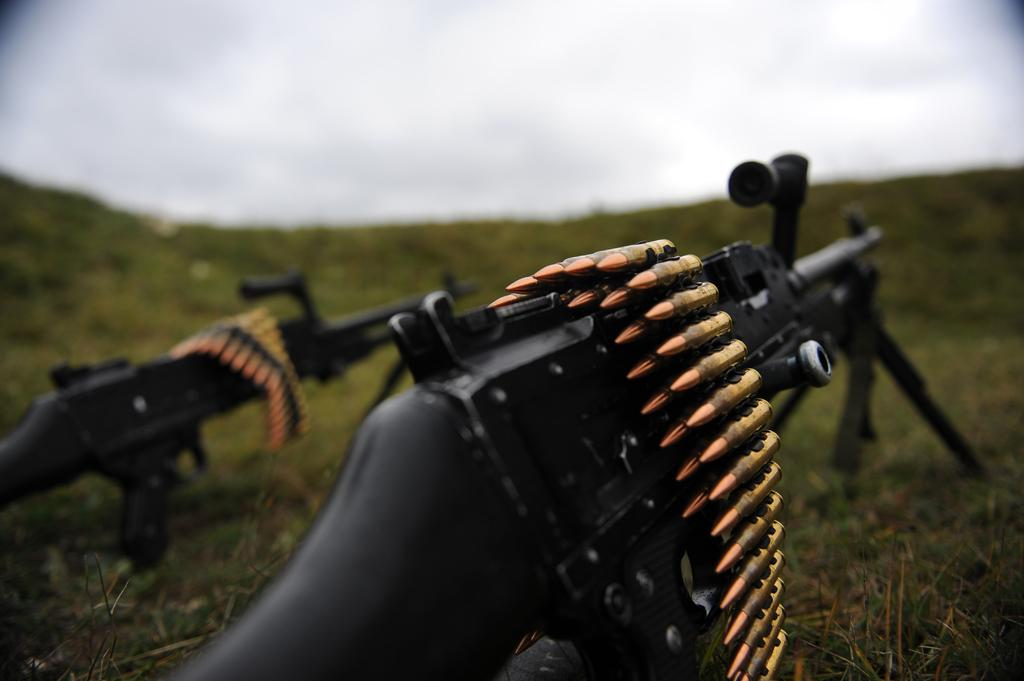Shotgun: (154, 150, 983, 680), (0, 268, 479, 573)
